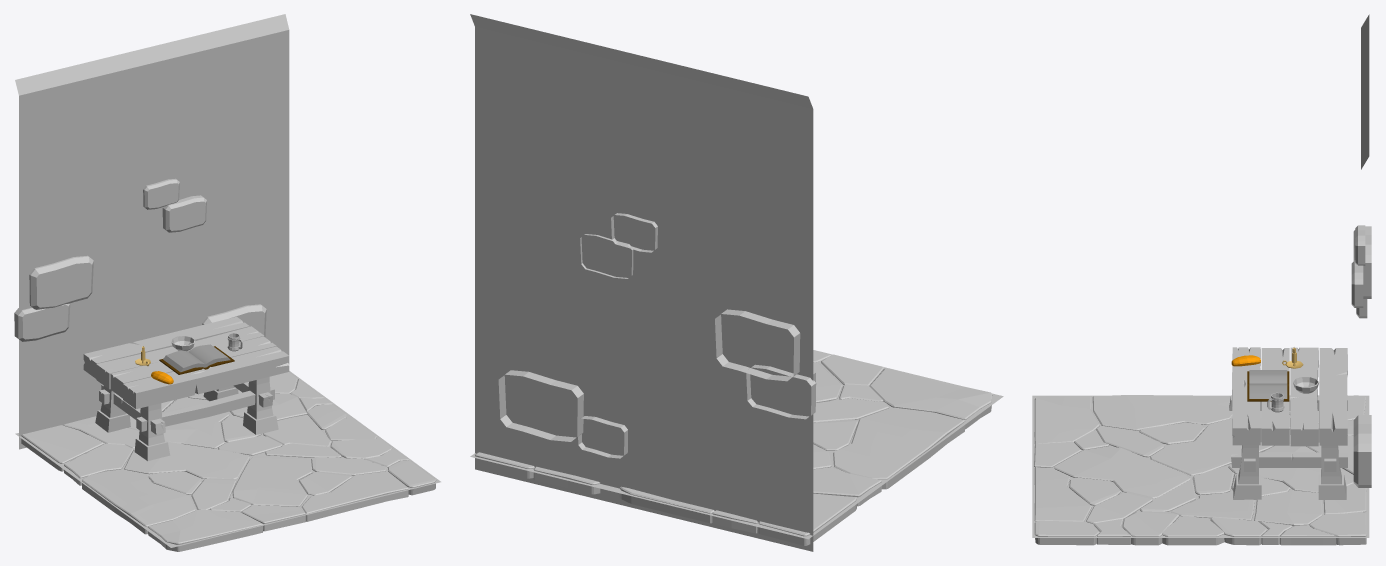
Rendered from menu.fbx.
The picture shows the model from 3 angles, left to right: view 1: azimuth 30°, elevation 25°; view 2: azimuth 150°, elevation 25°; view 3: azimuth 270°, elevation 25°; orthographic projection. The views are drawn at different scales.
Visible parts, largest first — view 1: Dungeon_Wall_Var2, FloorTIle, Table_01, Book_Open; view 2: Dungeon_Wall_Var2, FloorTIle; view 3: FloorTIle, Table_01, Dungeon_Wall_Var2, Book_Open.
Boxes of the visible parts, x1=… form: Dungeon_Wall_Var2: x1=14, y1=14, x2=289, y2=449; FloorTIle: x1=15, y1=371, x2=440, y2=551; Table_01: x1=83, y1=316, x2=289, y2=461; Book_Open: x1=159, y1=344, x2=234, y2=374; Dungeon_Wall_Var2: x1=470, y1=14, x2=816, y2=551; FloorTIle: x1=470, y1=350, x2=1003, y2=545; FloorTIle: x1=1032, y1=395, x2=1369, y2=545; Table_01: x1=1229, y1=347, x2=1347, y2=499; Dungeon_Wall_Var2: x1=1351, y1=14, x2=1371, y2=487; Book_Open: x1=1247, y1=370, x2=1289, y2=401.
Bounding box in the file's own units: 4.02 × 5.18 × 4.03.
